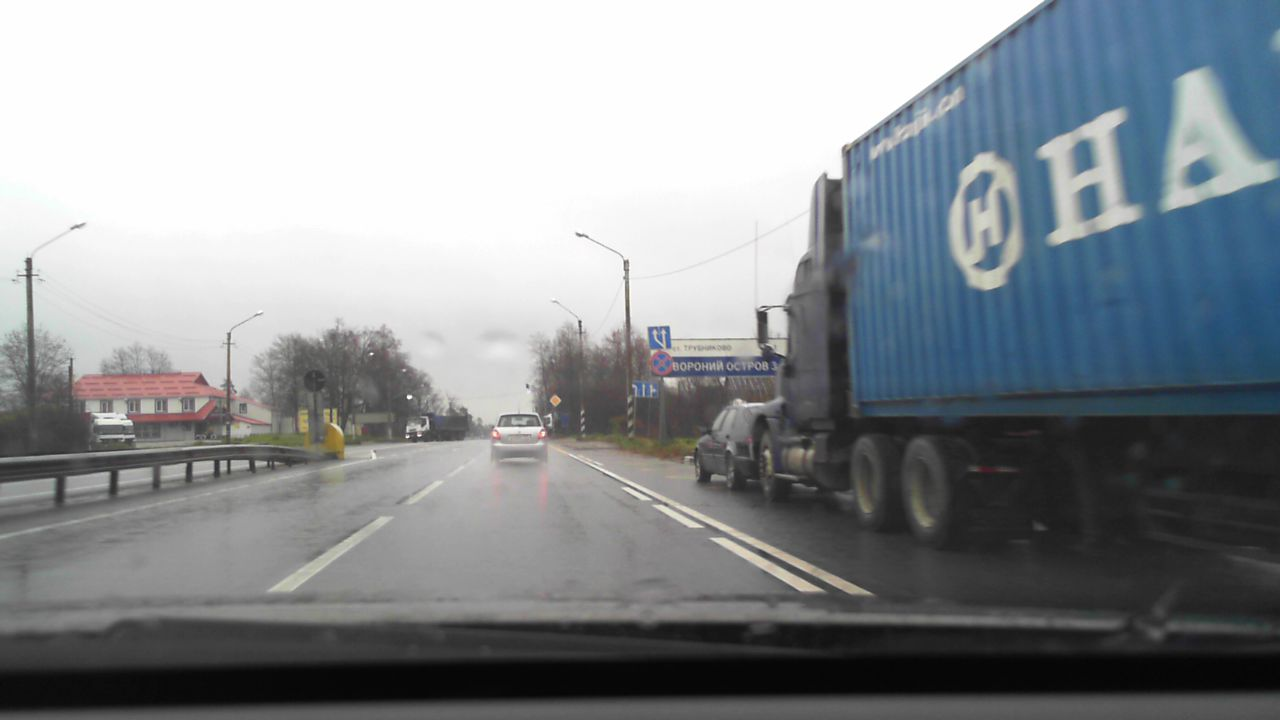No Parking: (648, 350, 673, 375)
